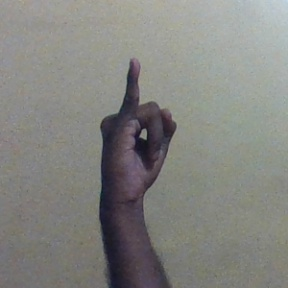I: (95, 57, 181, 195)
